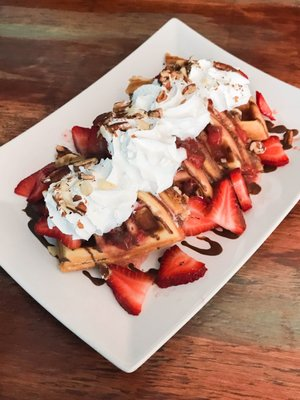curry: (1, 1, 300, 356)
